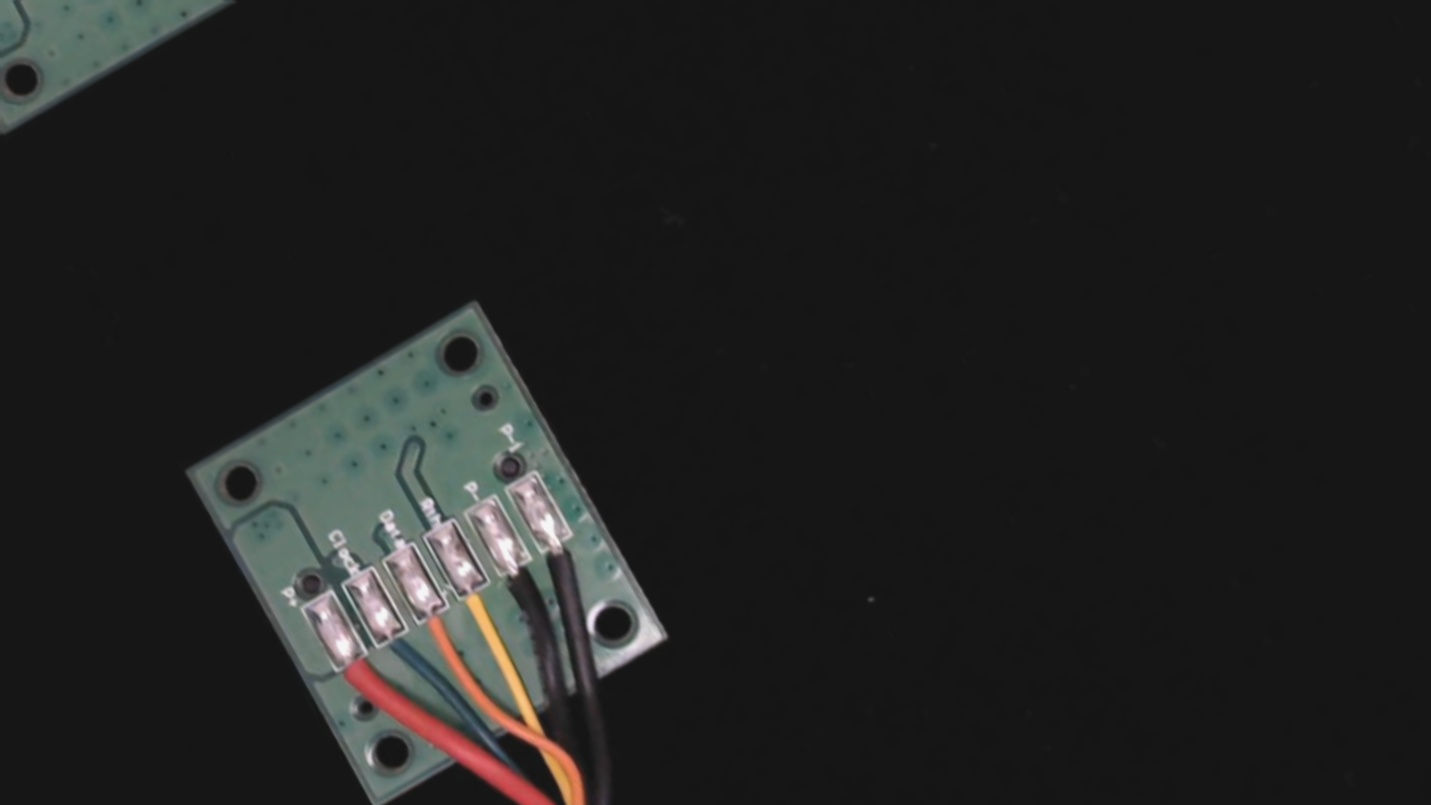Black: (483, 540, 561, 627)
Black1: (527, 514, 609, 604)
Green: (357, 605, 434, 690)
Orange: (399, 585, 474, 668)
Red: (315, 629, 399, 723)
Yellow: (443, 563, 520, 651)
